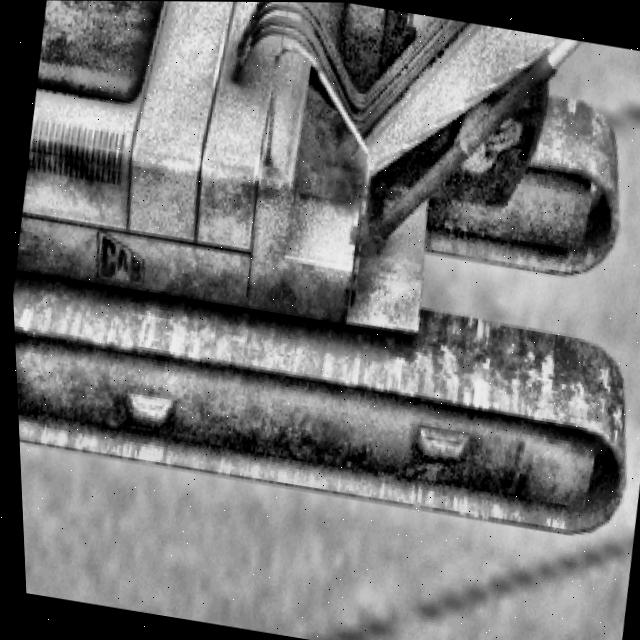excavator: (0, 0, 640, 543)
